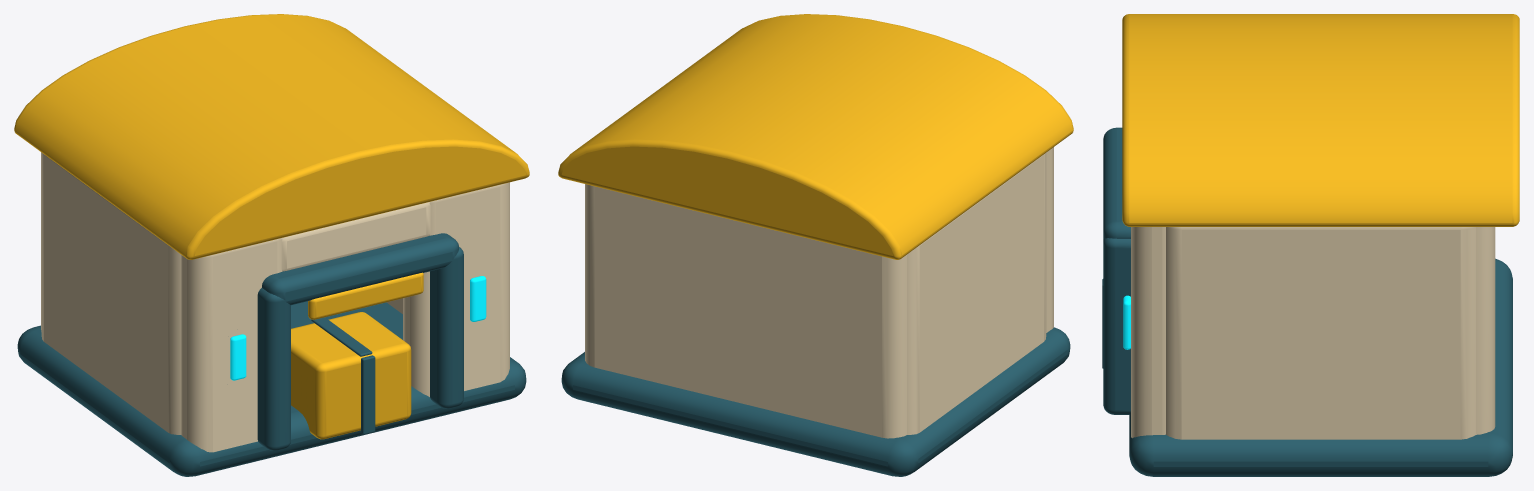
The model's file is storage.glb.
3 renders of one model, left to right at view 1: azimuth 30°, elevation 25°; view 2: azimuth 150°, elevation 25°; view 3: azimuth 270°, elevation 25°, orthographic. The views are drawn at different scales.
Parts seen in each view (by area): view 1: Curved golden roof, Storage left wall, Storage front left, Storage foundation, Storage front right, Cargo, Door frame header, Door jamb, Storage front lintel, Door jamb.001, Door top shutter, Cargo strap (+3 smaller); view 2: Curved golden roof, Storage back wall, Storage left wall, Storage foundation, Storage front left; view 3: Curved golden roof, Storage right wall, Storage foundation, Storage front right, Door jamb.001, Storage back wall, Door frame header.
Part boxes in pixels (left/top/right/bottom): Curved golden roof: left=14, top=14, right=529, bottom=259; Storage left wall: left=41, top=153, right=181, bottom=434; Storage front left: left=181, top=238, right=282, bottom=452; Storage foundation: left=17, top=301, right=526, bottom=476; Storage front right: left=403, top=182, right=509, bottom=396; Cargo: left=291, top=312, right=411, bottom=439; Door frame header: left=262, top=233, right=458, bottom=305; Door jamb: left=257, top=288, right=290, bottom=450; Storage front lintel: left=281, top=202, right=430, bottom=271; Door jamb.001: left=430, top=247, right=463, bottom=408; Door top shutter: left=308, top=272, right=423, bottom=319; Cargo strap: left=361, top=355, right=375, bottom=434; Curved golden roof: left=558, top=14, right=1073, bottom=259; Storage back wall: left=585, top=184, right=906, bottom=438; Storage left wall: left=907, top=153, right=1046, bottom=434; Storage foundation: left=561, top=327, right=1070, bottom=476; Storage front left: left=1046, top=147, right=1053, bottom=332; Curved golden roof: left=1122, top=14, right=1519, bottom=226; Storage right wall: left=1166, top=227, right=1475, bottom=439; Storage foundation: left=1129, top=258, right=1512, bottom=476; Storage front right: left=1131, top=227, right=1165, bottom=438; Door jamb.001: left=1103, top=238, right=1130, bottom=414; Storage back wall: left=1476, top=227, right=1495, bottom=434; Door frame header: left=1103, top=127, right=1130, bottom=239.
Bounding box in the file's own units: 1.82 × 1.43 × 1.65.
